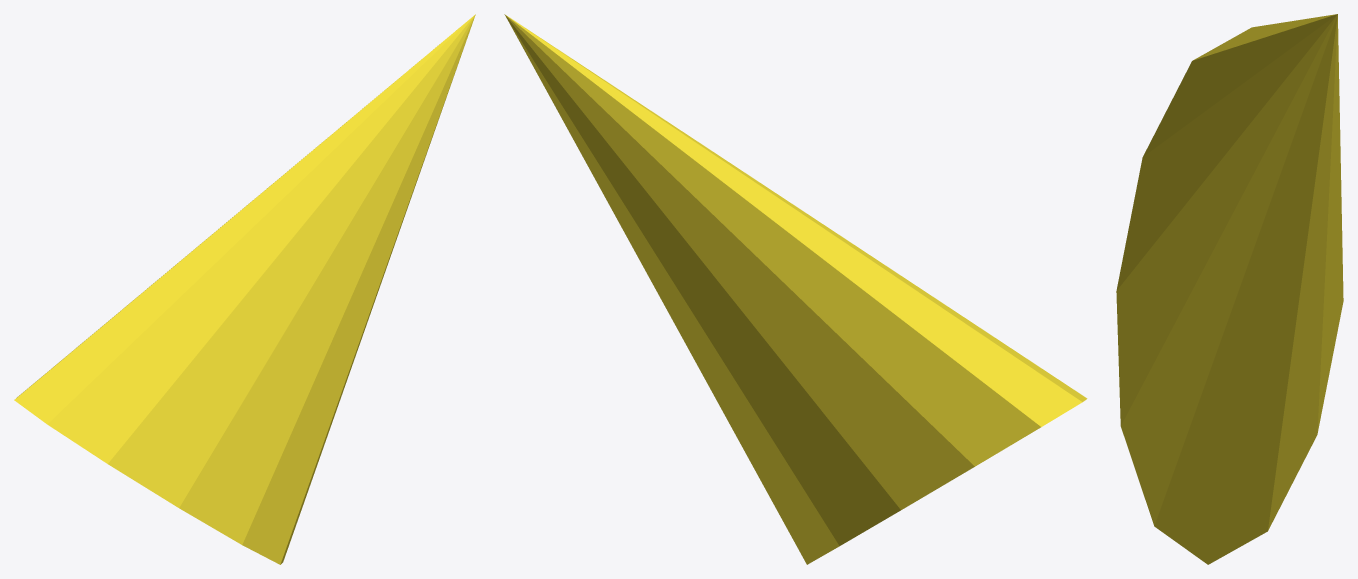
File: n5_group1774890193_lev5.glb
3 views of the same model, side by side, from view 1: azimuth 30°, elevation 25°; view 2: azimuth 150°, elevation 25°; view 3: azimuth 270°, elevation 25° (orthographic). The views are drawn at different scales.
Parts seen in each view (by area): view 1: n5_group1774890193_lev5; view 2: n5_group1774890193_lev5; view 3: n5_group1774890193_lev5.
Boxes of the visible parts, <box> form: n5_group1774890193_lev5: <box>14,14,475,564</box>; n5_group1774890193_lev5: <box>504,14,1087,564</box>; n5_group1774890193_lev5: <box>1116,14,1343,564</box>.
Bounding box in the file's own units: 2.31 × 2.08 × 0.5861.
